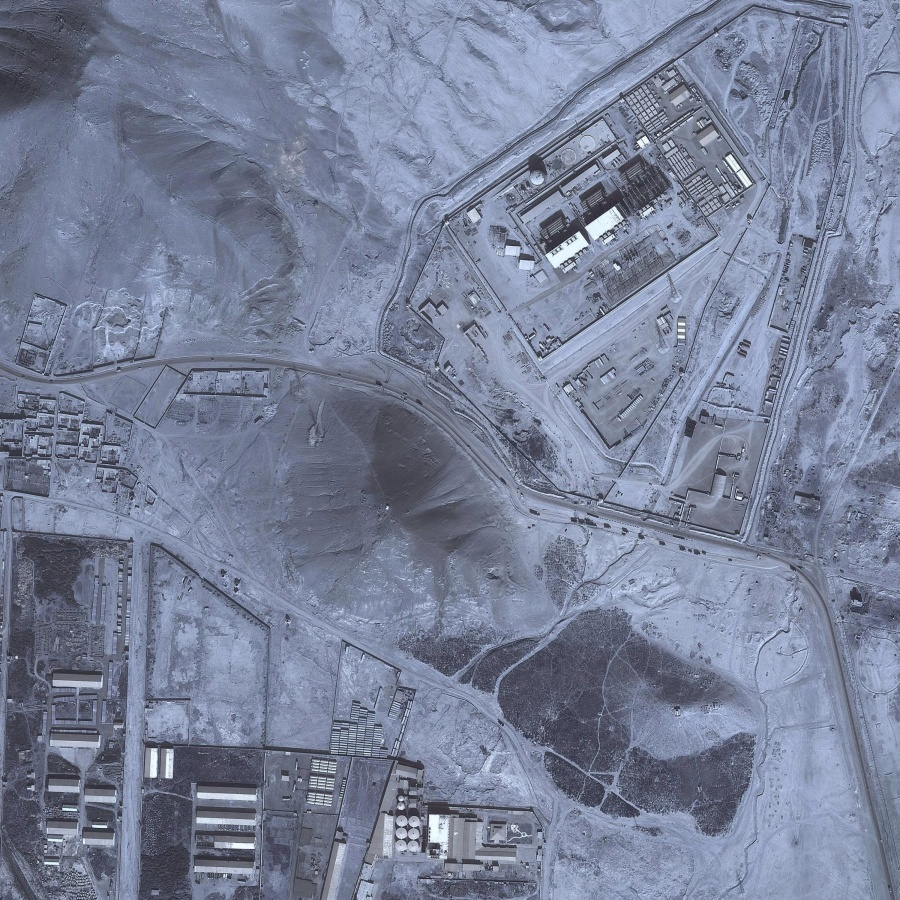PowerPlant: (502, 88, 752, 272)
